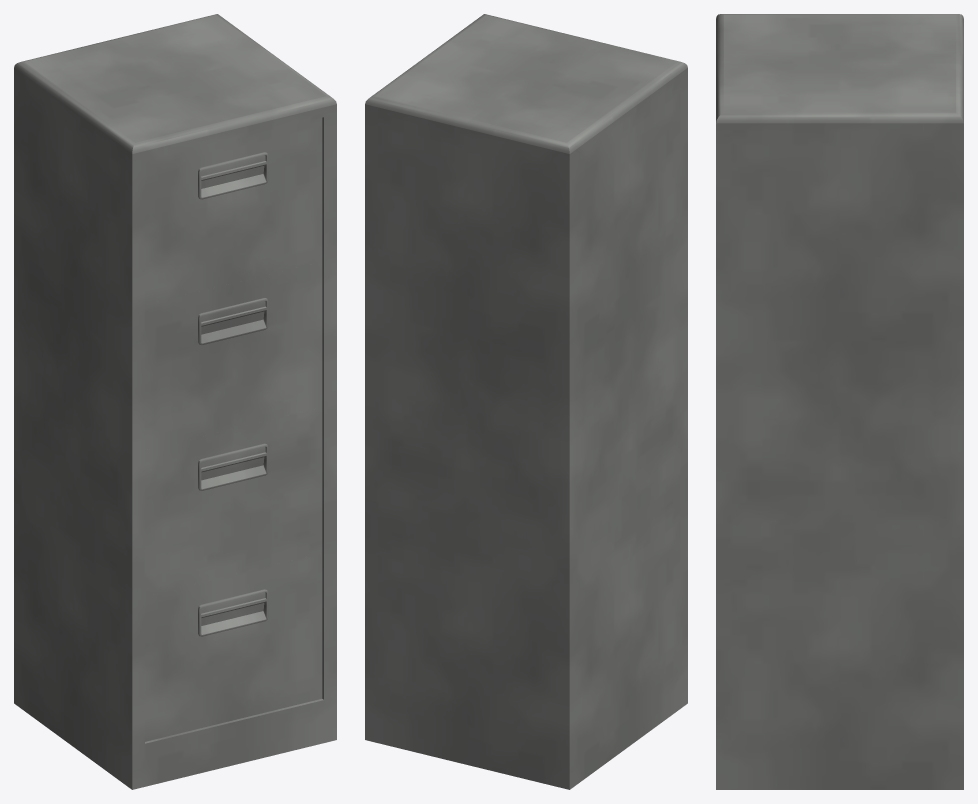
File: filing_cabinet.glb
The picture shows the model from 3 angles, left to right: view 1: azimuth 30°, elevation 25°; view 2: azimuth 150°, elevation 25°; view 3: azimuth 270°, elevation 25°; orthographic projection. The views are drawn at different scales.
Parts seen in each view (by area): view 1: filing_cabinet, drawer_2, drawer_3, drawer_4, drawer_1; view 2: filing_cabinet; view 3: filing_cabinet.
Part boxes in pixels (x1,y1,x2,y2): filing_cabinet: (14, 14, 336, 789); drawer_2: (145, 261, 322, 450); drawer_3: (145, 407, 322, 595); drawer_4: (145, 553, 322, 741); drawer_1: (145, 117, 322, 304); filing_cabinet: (365, 14, 687, 789); filing_cabinet: (716, 14, 963, 789).
Bounding box in the file's own units: 0.4999 × 1.5 × 0.4999.
Materials: 1 (1 with a texture image).
